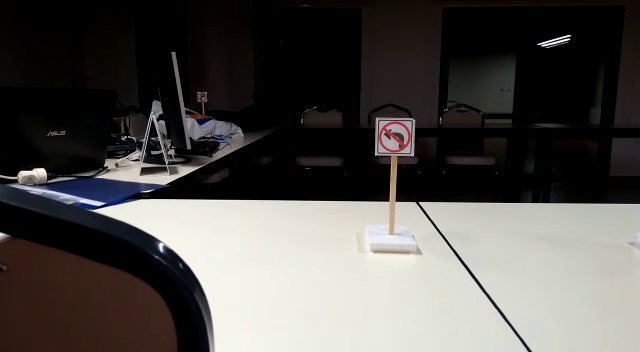sola_donulmez: (373, 117, 414, 158)
